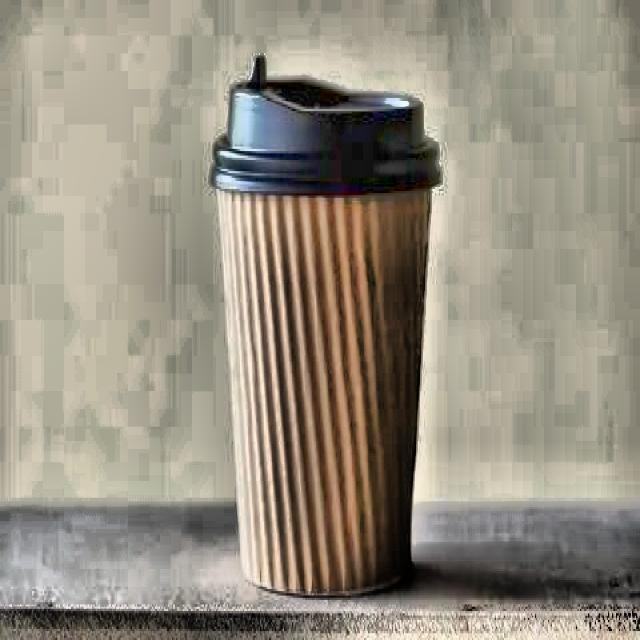Cup: (206, 49, 447, 605)
